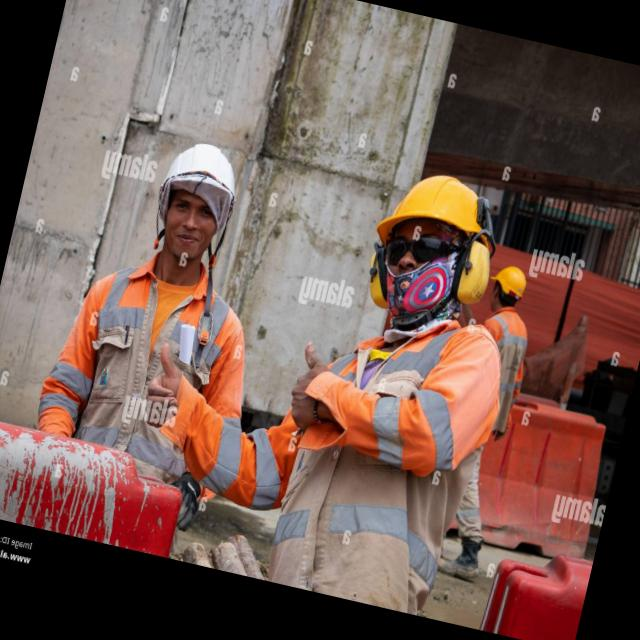goggles: (366, 214, 470, 290)
helmet: (372, 154, 506, 270), (156, 134, 247, 210), (488, 260, 532, 298)
no-goggles: (162, 186, 226, 236)
vest: (258, 292, 512, 620), (39, 258, 251, 452), (469, 308, 540, 434)
